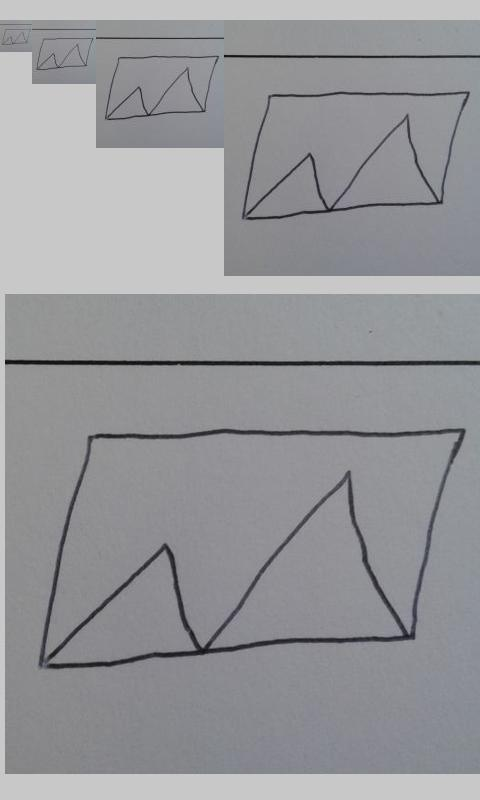image_view: (36, 425, 464, 673), (241, 86, 467, 228), (104, 55, 220, 120), (36, 37, 94, 71), (1, 28, 31, 46)
